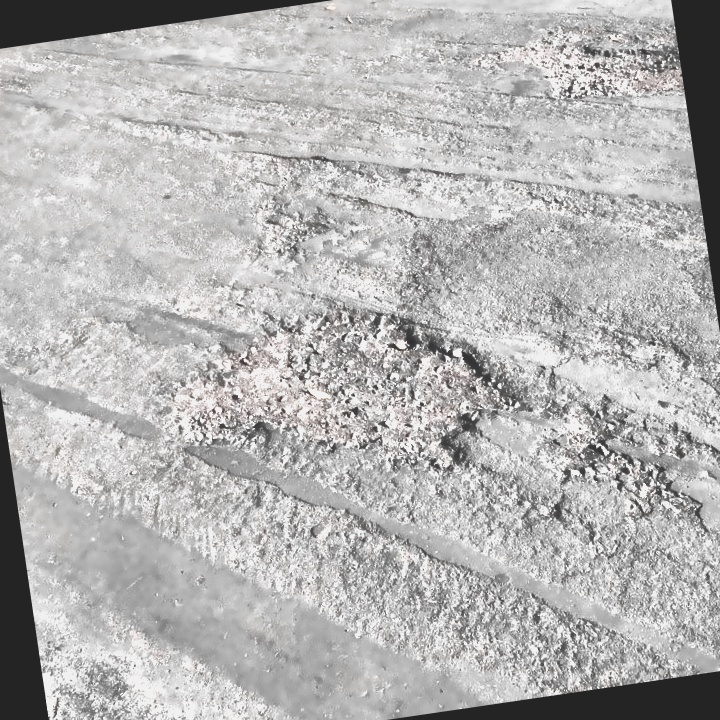pothole: (140, 270, 536, 517), (466, 3, 684, 121), (522, 392, 637, 484), (247, 202, 337, 262)
